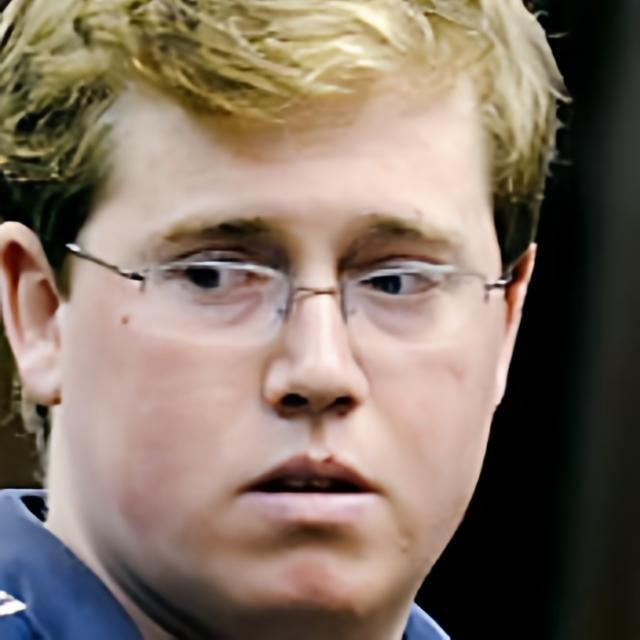fear: (64, 75, 508, 638)
